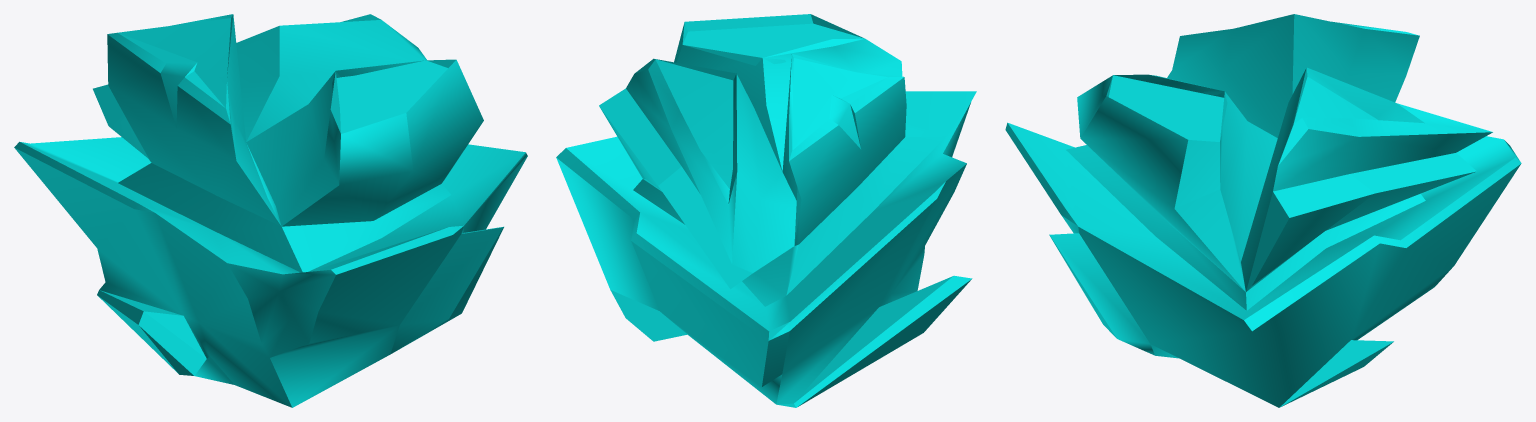
File: tricystal8_small_alpha.fbx
3 renders of one model, left to right at view 1: azimuth 30°, elevation 25°; view 2: azimuth 150°, elevation 25°; view 3: azimuth 270°, elevation 25°, orthographic. The views are drawn at different scales.
Parts seen in each view (by area): view 1: pCylinder1; view 2: pCylinder1; view 3: pCylinder1.
Part boxes in pixels (box(x1,y1,x2,y2)): pCylinder1: box(14, 14, 527, 407); pCylinder1: box(556, 14, 976, 407); pCylinder1: box(1005, 14, 1521, 407).
Size of the model in its own units: 5.25 by 3.81 by 5.79.
